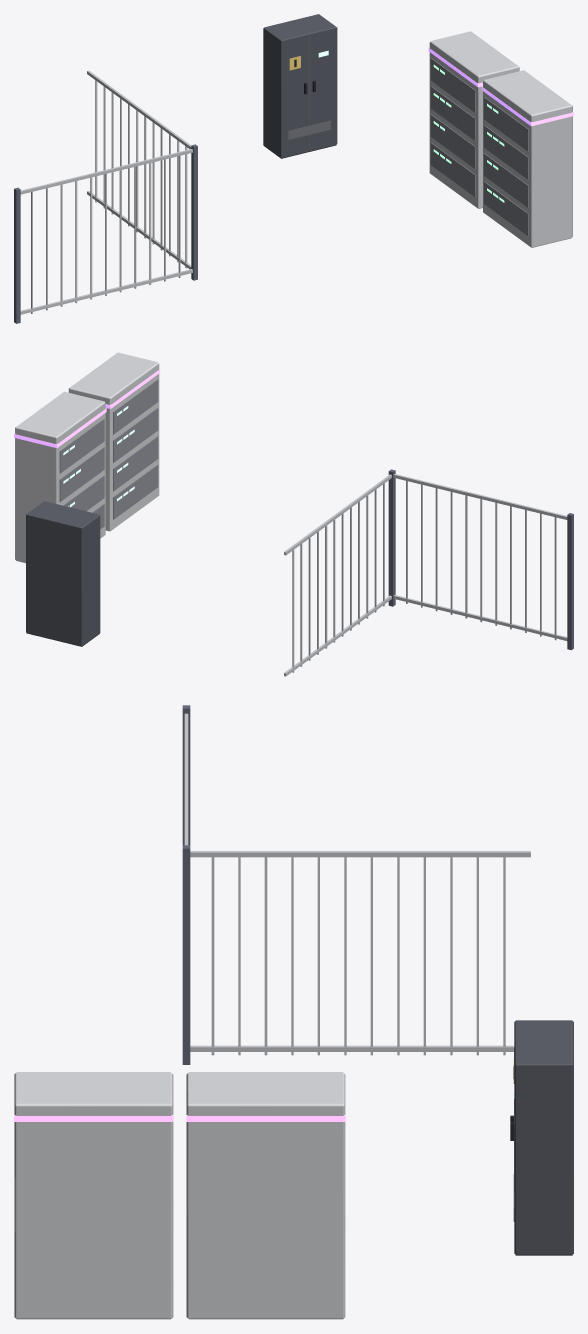
Rendered from einrichtung_trafo_buehne.glb.
3 views of the same model, one above another, from view 1: azimuth 30°, elevation 25°; view 2: azimuth 150°, elevation 25°; view 3: azimuth 270°, elevation 25° (orthographic). The views are drawn at different scales.
Visible parts, largest first — view 1: einrichtung_trafo_buehne; view 2: einrichtung_trafo_buehne; view 3: einrichtung_trafo_buehne.
Boxes of the visible parts, x1,y1,x2,y2 form: einrichtung_trafo_buehne: [14, 14, 573, 323]; einrichtung_trafo_buehne: [14, 352, 573, 676]; einrichtung_trafo_buehne: [14, 705, 573, 1319].
Bounding box in the file's own units: 7.13 × 1.8 × 4.23.
